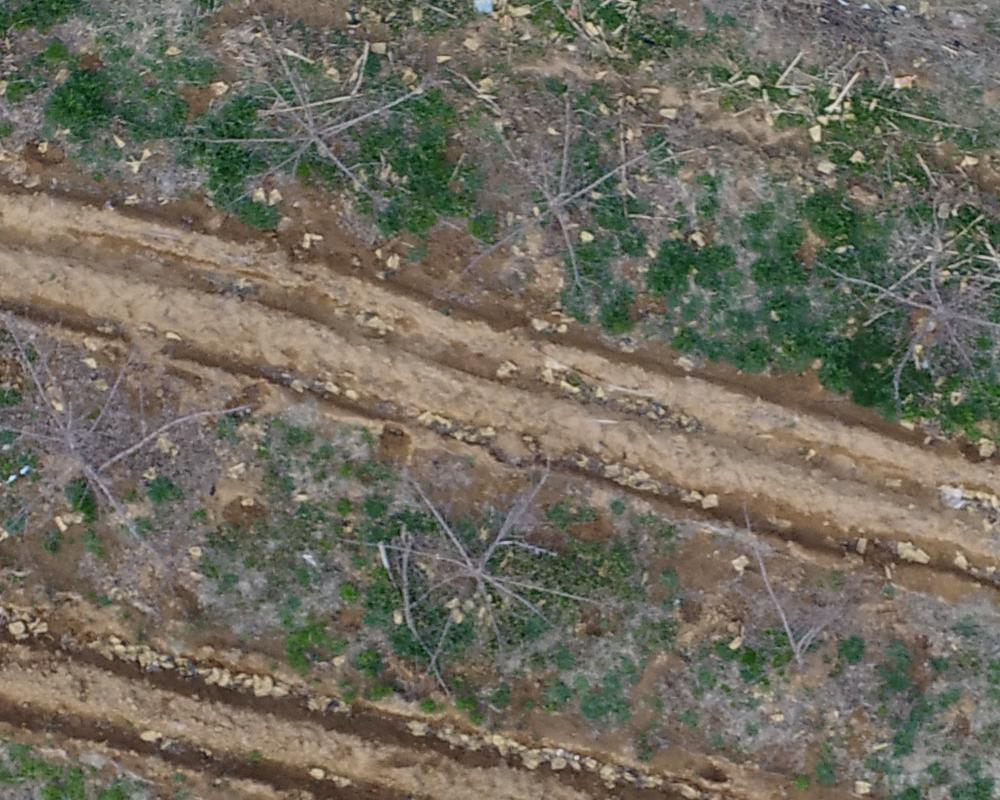apple: (333, 446, 608, 695), (10, 297, 242, 557), (192, 18, 425, 220), (454, 87, 669, 304), (827, 201, 990, 424), (699, 508, 864, 707)
